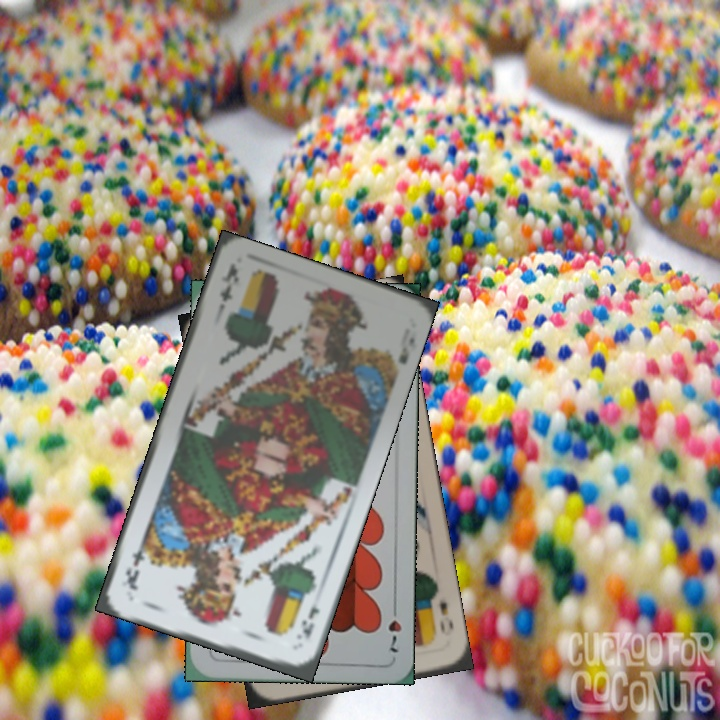EK: (213, 259, 242, 318), (292, 602, 322, 642)
EO: (435, 595, 456, 636)
H7: (384, 598, 404, 656)
